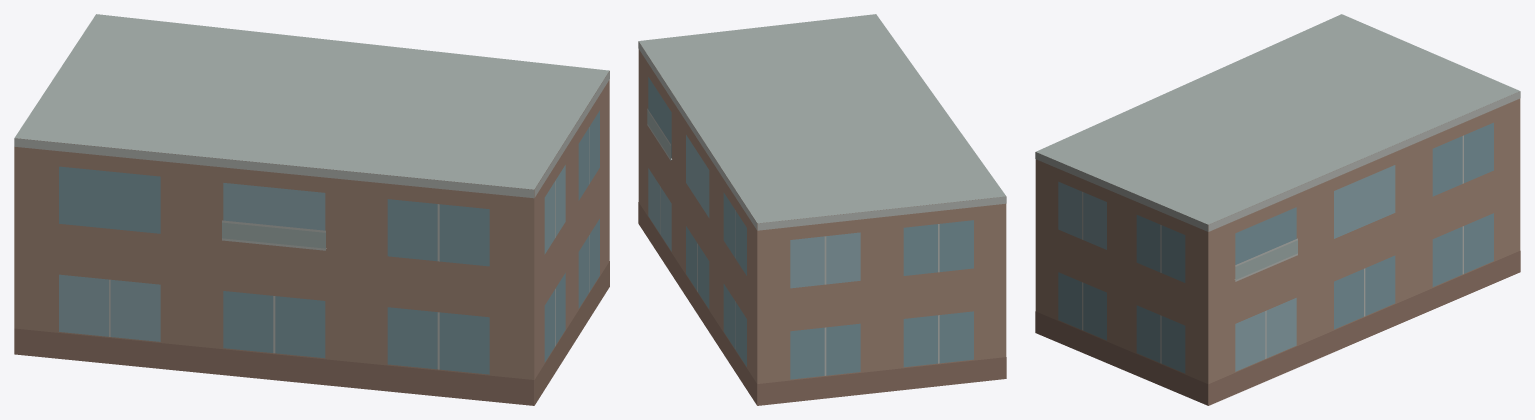
Rendered from survey-upis-32955625.glb.
3 views of the same model, side by side, from view 1: azimuth 30°, elevation 25°; view 2: azimuth 150°, elevation 25°; view 3: azimuth 270°, elevation 25° (orthographic). The views are drawn at different scales.
Parts seen in each view (by area): view 1: survey-upis-32955625.tmp; view 2: survey-upis-32955625.tmp; view 3: survey-upis-32955625.tmp.
Part boxes in pixels (bbox=[...]): survey-upis-32955625.tmp: bbox=[14, 14, 609, 405]; survey-upis-32955625.tmp: bbox=[638, 14, 1006, 405]; survey-upis-32955625.tmp: bbox=[1035, 14, 1520, 405].
Size of the model in its own units: 15.24 by 6.1 by 14.81.
